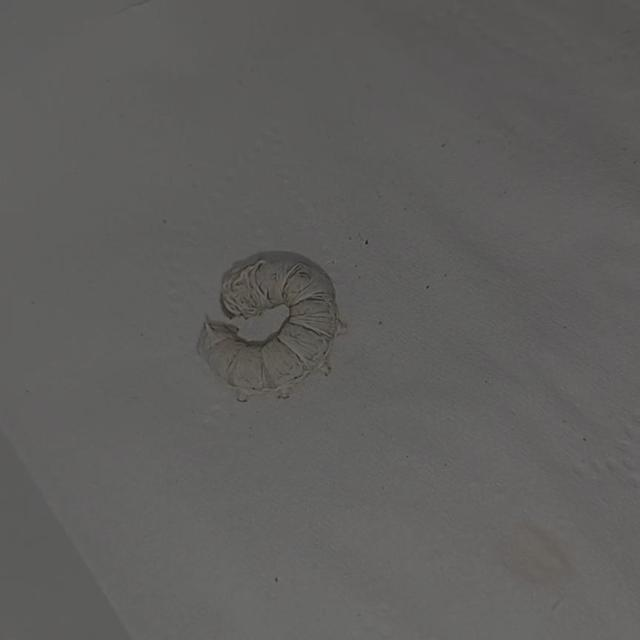Healthy: (187, 224, 357, 420)
